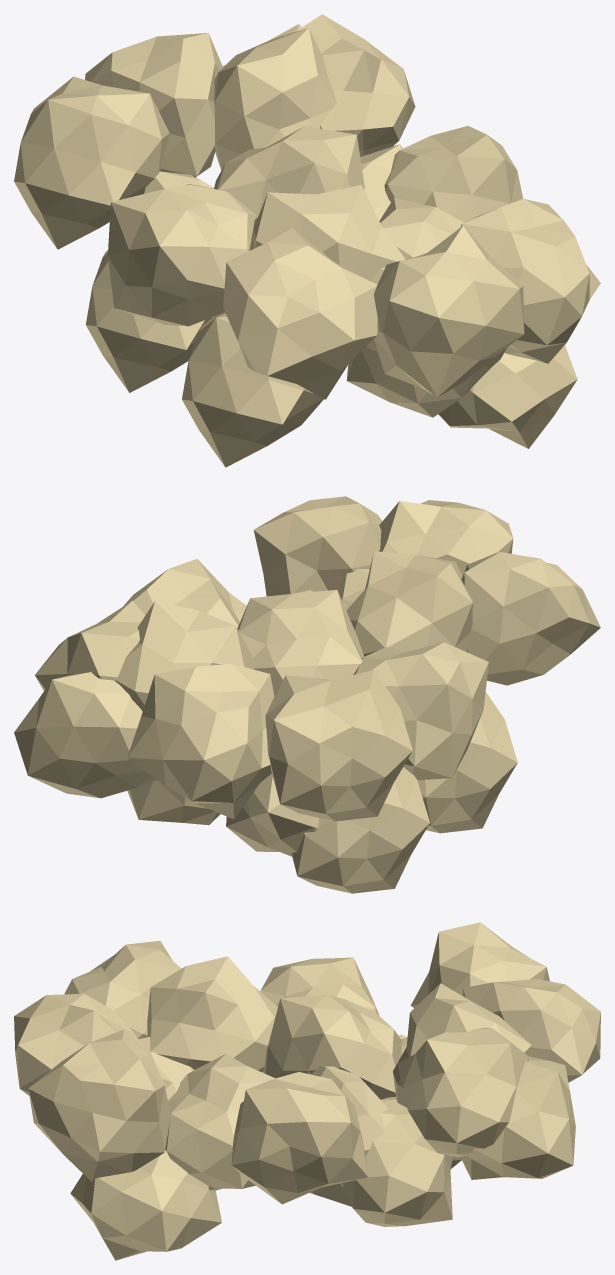
Rendered from carton-additivePopcorn.fbx.
3 renders of one model, top to bottom at view 1: azimuth 30°, elevation 25°; view 2: azimuth 150°, elevation 25°; view 3: azimuth 270°, elevation 25°, orthographic. The views are drawn at different scales.
Visible parts, largest first — view 1: popcorn-carton.001; view 2: popcorn-carton.001; view 3: popcorn-carton.001.
Part boxes in pixels (left/top/right/bottom): popcorn-carton.001: left=14, top=14, right=600, bottom=467; popcorn-carton.001: left=14, top=496, right=600, bottom=893; popcorn-carton.001: left=14, top=922, right=600, bottom=1260.
Bounding box in the file's own units: 16.93 × 11.82 × 25.21.
